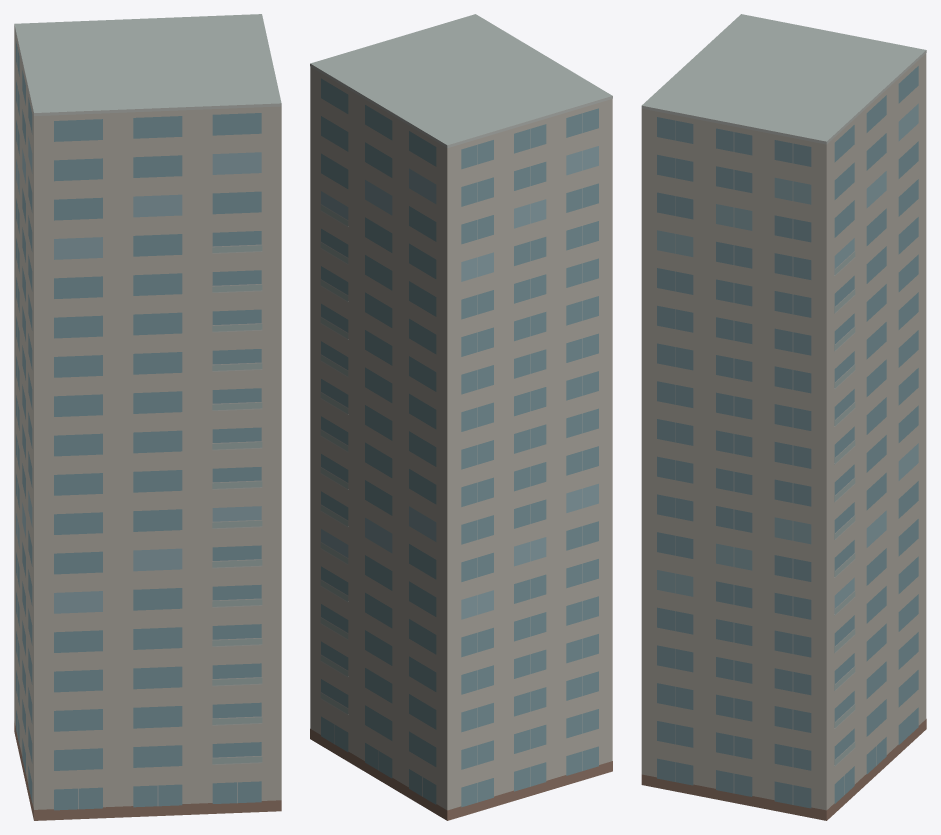
Rendered from residential-d340edf1-e8a7-4a57-b6a1-d736eec99e46.glb.
3 views of the same model, side by side, from view 1: azimuth 30°, elevation 25°; view 2: azimuth 150°, elevation 25°; view 3: azimuth 270°, elevation 25° (orthographic). The views are drawn at different scales.
Parts seen in each view (by area): view 1: residential-d340edf1-e8a7-4a57-b6a1-d736eec99e46.tmp; view 2: residential-d340edf1-e8a7-4a57-b6a1-d736eec99e46.tmp; view 3: residential-d340edf1-e8a7-4a57-b6a1-d736eec99e46.tmp.
Part boxes in pixels (<box>): residential-d340edf1-e8a7-4a57-b6a1-d736eec99e46.tmp: <box>14,14,281,820</box>; residential-d340edf1-e8a7-4a57-b6a1-d736eec99e46.tmp: <box>310,14,612,820</box>; residential-d340edf1-e8a7-4a57-b6a1-d736eec99e46.tmp: <box>641,14,926,820</box>.
Size of the model in its own units: 22.98 by 57 by 21.67.
